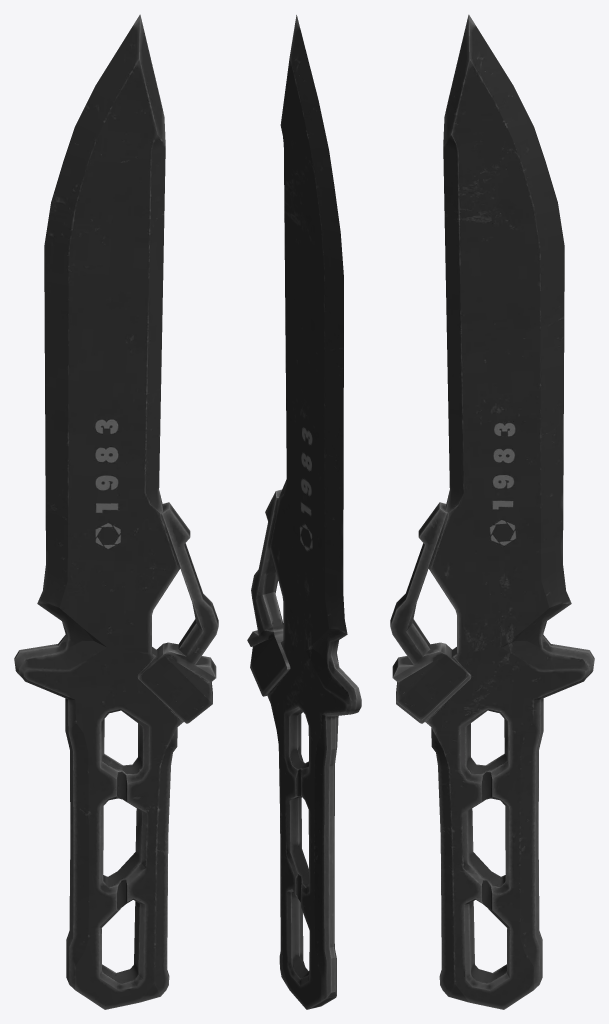
File: knife-compressed.glb
The picture shows the model from 3 angles, left to right: view 1: azimuth 90°, elevation 25°; view 2: azimuth 210°, elevation 25°; view 3: azimuth 270°, elevation 25°; orthographic projection.
Parts seen in each view (by area): view 1: Object_2; view 2: Object_2; view 3: Object_2.
Part boxes in pixels (left/top/right/bottom): Object_2: left=14, top=14, right=218, bottom=1009; Object_2: left=247, top=15, right=361, bottom=1009; Object_2: left=390, top=14, right=594, bottom=1009.
Size of the model in its own units: 1.48 by 58.52 by 10.92.
1 material, 1 textured.
